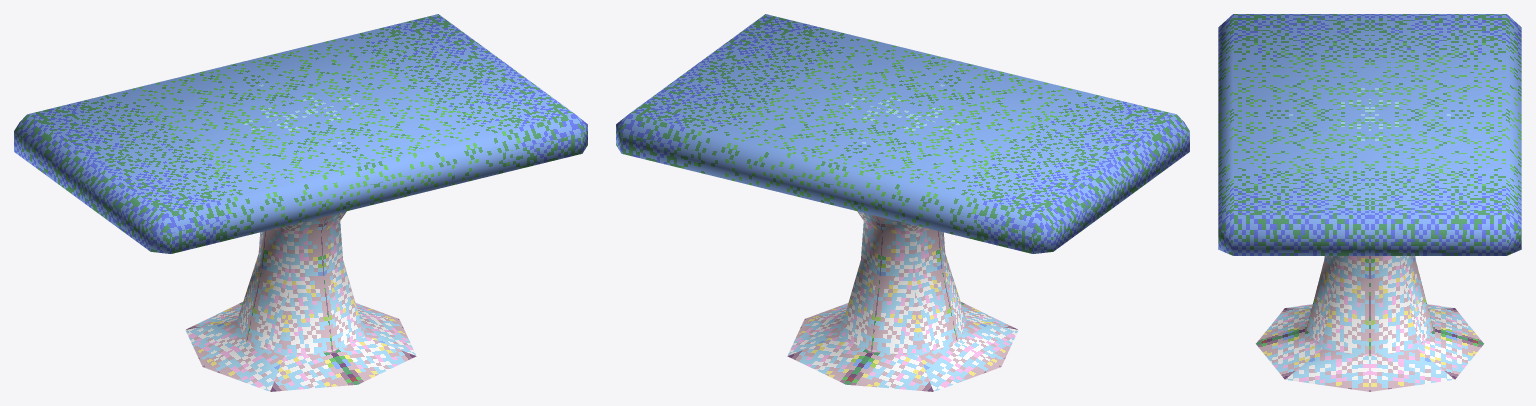
Rendered from table.glb.
The picture shows the model from 3 angles, left to right: view 1: azimuth 30°, elevation 25°; view 2: azimuth 150°, elevation 25°; view 3: azimuth 270°, elevation 25°; orthographic projection.
Visible parts, largest first — view 1: table; view 2: table; view 3: table.
Boxes of the visible parts, box(x1,y1,x2,y2) form: table: box(14, 14, 587, 391); table: box(616, 14, 1189, 391); table: box(1218, 14, 1521, 391).
Size of the model in its own units: 4 by 2 by 2.4.
Materials: 1 (1 with a texture image).
